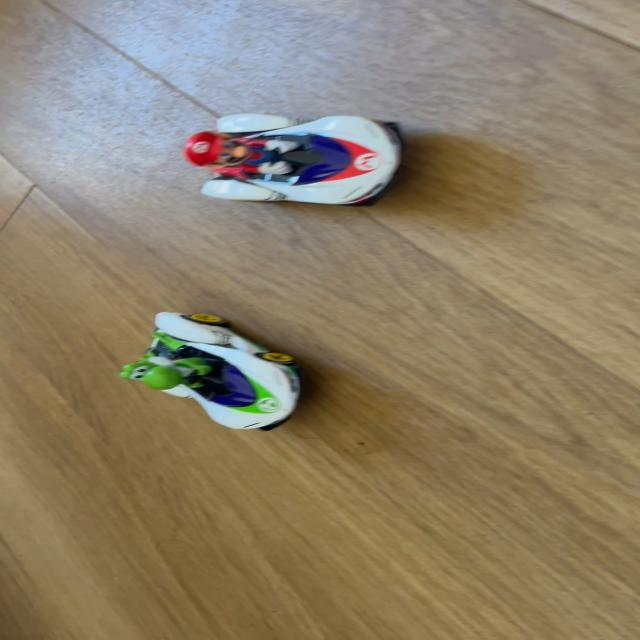mario: (180, 108, 422, 212)
yoshi: (100, 308, 316, 441)
